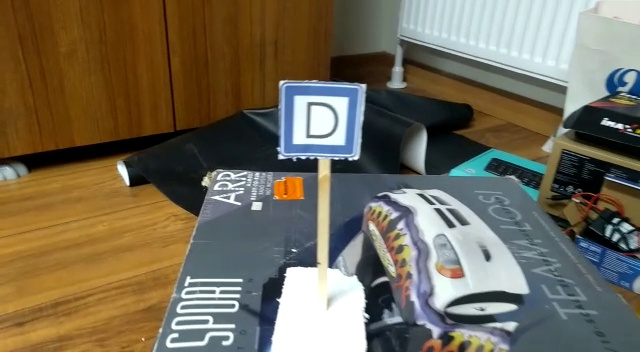durak: (275, 77, 365, 164)
